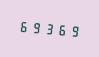nine: (30, 18, 41, 36), (66, 21, 77, 39)
six: (18, 17, 29, 35), (54, 20, 65, 38)
three: (42, 19, 53, 37)
